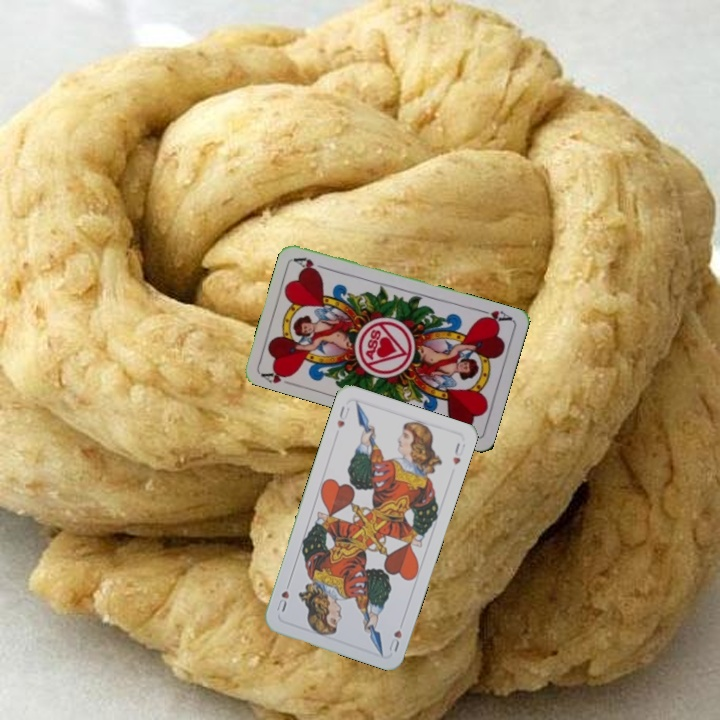HA: (258, 365, 298, 388), (474, 305, 514, 326)
HU: (385, 626, 405, 654), (333, 402, 352, 431)
